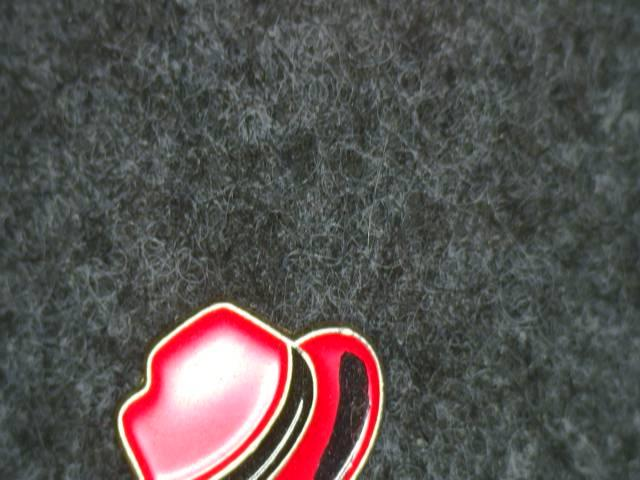Red-Hat: (99, 260, 416, 480)
Scratch: (301, 339, 388, 480)
